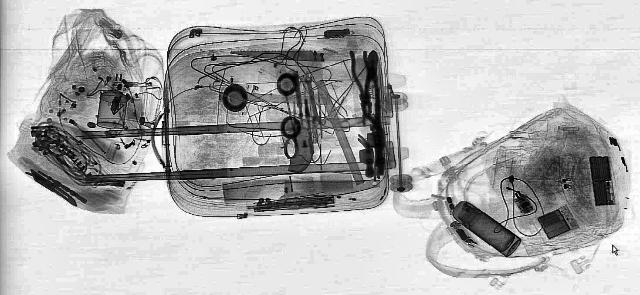Pliers: (347, 51, 379, 116)
